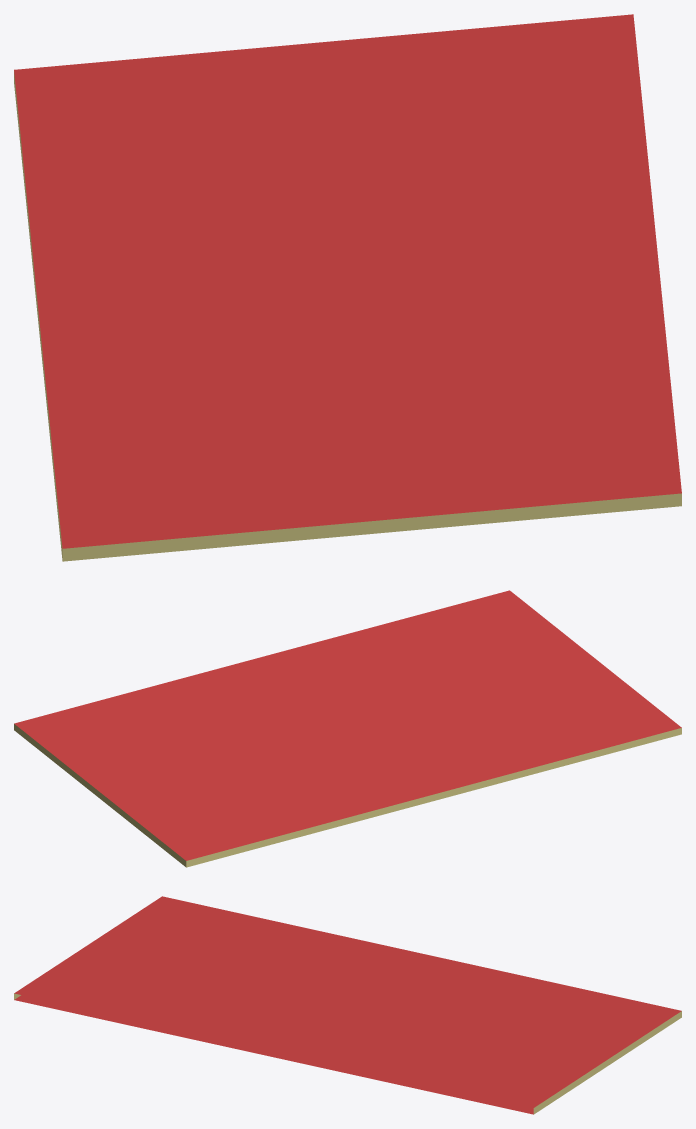
3 views of the same model, one above another, from view 1: azimuth 30°, elevation 25°; view 2: azimuth 150°, elevation 25°; view 3: azimuth 270°, elevation 25° (orthographic). The views are drawn at different scales.
Bounding box in the file's own units: 7.61 × 9.16 × 0.446.
